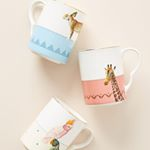cups: (18, 93, 99, 150), (76, 42, 144, 106), (25, 1, 89, 67)
